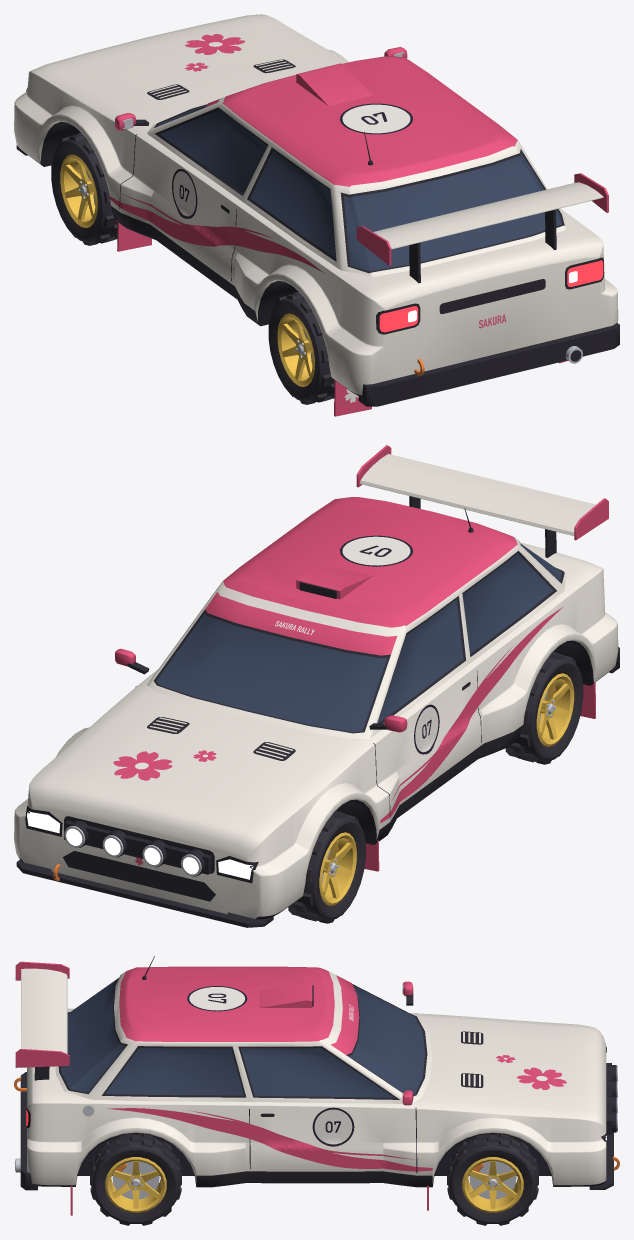
File: rally_car.glb
3 renders of one model, top to bottom at view 1: azimuth 30°, elevation 25°; view 2: azimuth 150°, elevation 25°; view 3: azimuth 270°, elevation 25°, orthographic. The views are drawn at different scales.
Parts seen in each view (by area): view 1: Body, Wheel_RL, Wheel_FL; view 2: Body, Wheel_FL, Wheel_RL; view 3: Body, Wheel_FR, Wheel_RR.
Part boxes in pixels (x1,y1,x2,y2): Body: [14, 14, 619, 416]; Wheel_RL: [268, 292, 334, 404]; Wheel_FL: [51, 133, 117, 245]; Body: [14, 445, 619, 927]; Wheel_FL: [288, 811, 365, 923]; Wheel_RL: [505, 652, 583, 764]; Body: [14, 956, 619, 1215]; Wheel_FR: [447, 1134, 538, 1225]; Wheel_RR: [90, 1134, 181, 1225].
Size of the model in its own units: 1.95 by 1.56 by 4.33.
